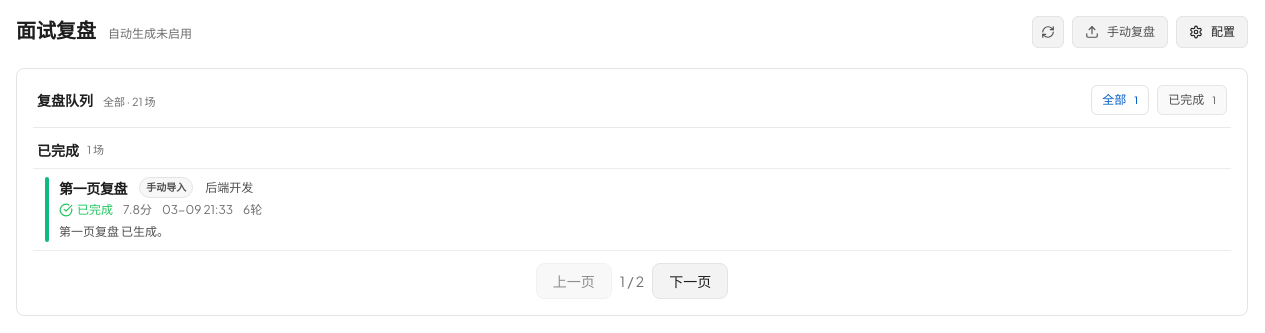
ReviewSessionList › returns to the last valid page when the review total shrinks
Expected: the heading "第一页复盘" is shown, [59,178,127,198]
Click the button "下一页" at x=690, y=280, box [652,262,728,298]
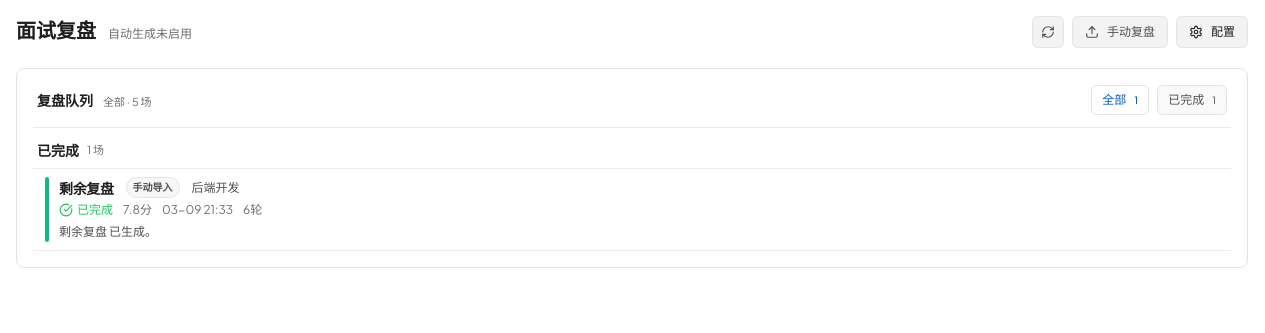
Expected: the heading "剩余复盘" is shown, [59,178,114,198]
